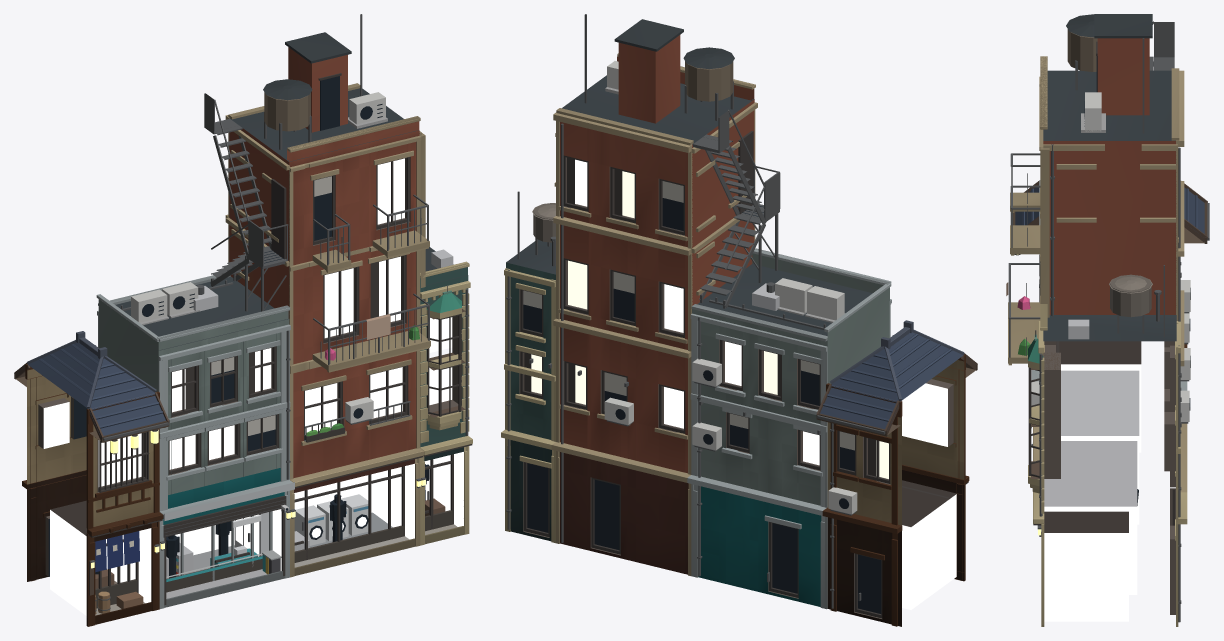
The model's file is shoprow221.glb.
3 renders of one model, left to right at view 1: azimuth 30°, elevation 25°; view 2: azimuth 150°, elevation 25°; view 3: azimuth 270°, elevation 25°, orthographic. The views are drawn at different scales.
Parts seen in each view (by area): view 1: r221-h11-wall, r221-h11-trim, r221-h10-trim, r221-h10-wall, r221-h11-steel, r221-h15-wall2, r221-h11-frame, r221-h15-roof, r221-h10-wall2, r221-h15-trim, r221-h10-frame, r221-h16-trim (+25 smaller); view 2: r221-h11-wall, r221-h10-wall, r221-h10-trim, r221-h11-wall2, r221-h11-trim, r221-h10-wall2, r221-h15-wall2, r221-h11-steel, r221-h15-roof, r221-h11-roof, r221-h15-trim, r221-h11-frame (+22 smaller); view 3: r221-h11-wall, r221-h11-trim, r221-h11-roof, r221-h16-shop, r221-h16-wall2, r221-h11-wall2, r221-h10-wall2, r221-h16-trim, r221-h11-steel, r221-h16-roof, r221-h15-wall2, r221-h16-steel (+7 smaller).
Part boxes in pixels (left/top/right/bottom): r221-h11-wall: left=229, top=47, right=419, bottom=478; r221-h11-trim: left=225, top=83, right=430, bottom=577; r221-h10-trim: left=96, top=275, right=294, bottom=608; r221-h10-wall: left=98, top=299, right=289, bottom=494; r221-h11-steel: left=204, top=14, right=429, bottom=530; r221-h15-wall2: left=14, top=363, right=169, bottom=614; r221-h11-frame: left=271, top=73, right=423, bottom=559; r221-h15-roof: left=27, top=331, right=165, bottom=435; r221-h10-wall2: left=163, top=333, right=284, bottom=592; r221-h15-trim: left=22, top=364, right=165, bottom=626; r221-h10-frame: left=163, top=346, right=286, bottom=605; r221-h16-trim: left=420, top=249, right=472, bottom=545; r221-h11-wall: left=560, top=35, right=754, bottom=473; r221-h10-wall: left=692, top=253, right=889, bottom=505; r221-h10-trim: left=687, top=249, right=891, bottom=609; r221-h11-wall2: left=560, top=61, right=733, bottom=574; r221-h11-trim: left=551, top=54, right=757, bottom=575; r221-h10-wall2: left=698, top=339, right=821, bottom=606; r221-h15-wall2: left=816, top=353, right=977, bottom=626; r221-h11-steel: left=561, top=14, right=780, bottom=542; r221-h15-roof: left=820, top=320, right=970, bottom=429; r221-h11-roof: left=562, top=19, right=755, bottom=144; r221-h15-trim: left=822, top=354, right=969, bottom=626; r221-h11-frame: left=563, top=131, right=753, bottom=554; r221-h11-wall: left=1006, top=38, right=1176, bottom=314; r221-h11-trim: left=1008, top=56, right=1189, bottom=492; r221-h11-roof: left=1040, top=14, right=1175, bottom=140; r221-h16-shop: left=1044, top=533, right=1128, bottom=621; r221-h16-wall2: left=1031, top=274, right=1175, bottom=614; r221-h11-wall2: left=1044, top=29, right=1175, bottom=525; r221-h10-wall2: left=1061, top=370, right=1175, bottom=487; r221-h16-trim: left=1028, top=319, right=1187, bottom=626; r221-h11-steel: left=1008, top=21, right=1188, bottom=533; r221-h16-roof: left=1028, top=304, right=1176, bottom=363; r221-h15-wall2: left=1013, top=181, right=1207, bottom=364; r221-h16-steel: left=1035, top=265, right=1181, bottom=622.
Size of the model in its own units: 11.7 by 14.68 by 4.87.
